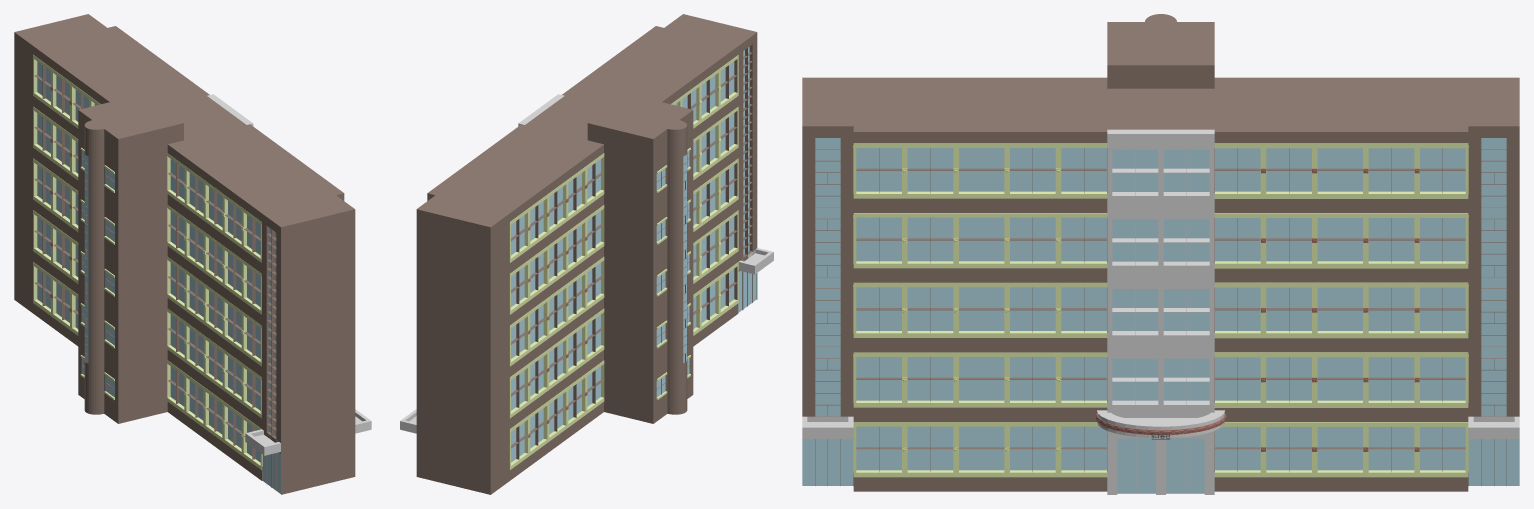
Rendered from 6building_1.glb.
3 views of the same model, side by side, from view 1: azimuth 30°, elevation 25°; view 2: azimuth 150°, elevation 25°; view 3: azimuth 270°, elevation 25° (orthographic). The views are drawn at different scales.
Visible parts, largest first — view 1: main, sidebar-2, 5,6사이건물, 후면창문, sidebar-1.001, Cube.042, Cube.056, Cube.057, Cube.058, Cube.059, Cube.044, Cube.077 (+4 smaller); view 2: main, sidebar-1.001, 5,6사이건물, 후면창문, Cube.042, sidebar-2, Cube.059, Cube.044, Cube.058, Cube.056, Cube.057, Cube.007 (+4 smaller); view 3: 정면창문, main, Cube.036, center, sidebar-2, sidebar-1.001, Cube.025, Cube.078, Cube.047, Cube.051, Cube.054, Cube.049 (+10 smaller).
Boxes of the visible parts, x1,y1,x2,y2 form: main: (33,26,344,480); sidebar-2: (262,195,355,494); 5,6사이건물: (78,106,134,423); 후면창문: (37,61,260,462); sidebar-1.001: (14,14,106,313); Cube.042: (33,54,100,335); Cube.056: (167,309,261,418); Cube.057: (167,257,261,366); Cube.058: (167,205,261,314); Cube.059: (167,153,261,262); Cube.044: (167,360,262,470); Cube.077: (84,154,88,328); main: (427,26,738,480); sidebar-1.001: (416,195,509,494); 5,6사이건물: (625,106,693,423); 후면창문: (511,61,734,462); Cube.042: (509,153,604,469); sidebar-2: (664,14,757,309); Cube.059: (671,55,738,128); Cube.044: (693,262,738,335); Cube.058: (693,106,738,180); Cube.056: (693,210,738,283); Cube.057: (693,158,738,231); Cube.007: (656,168,665,397); 정면창문: (856,148,1465,470); main: (853,24,1468,491); Cube.036: (1214,143,1468,477); center: (1107,129,1214,493); sidebar-2: (802,77,853,485); sidebar-1.001: (1468,77,1519,485); Cube.025: (815,138,840,369); Cube.078: (1481,138,1506,369); Cube.047: (853,352,1107,407); Cube.051: (853,213,1107,268); Cube.054: (853,143,1107,198); Cube.049: (853,282,1107,337).
Bounding box in the file's own units: 106 × 165 × 280.
